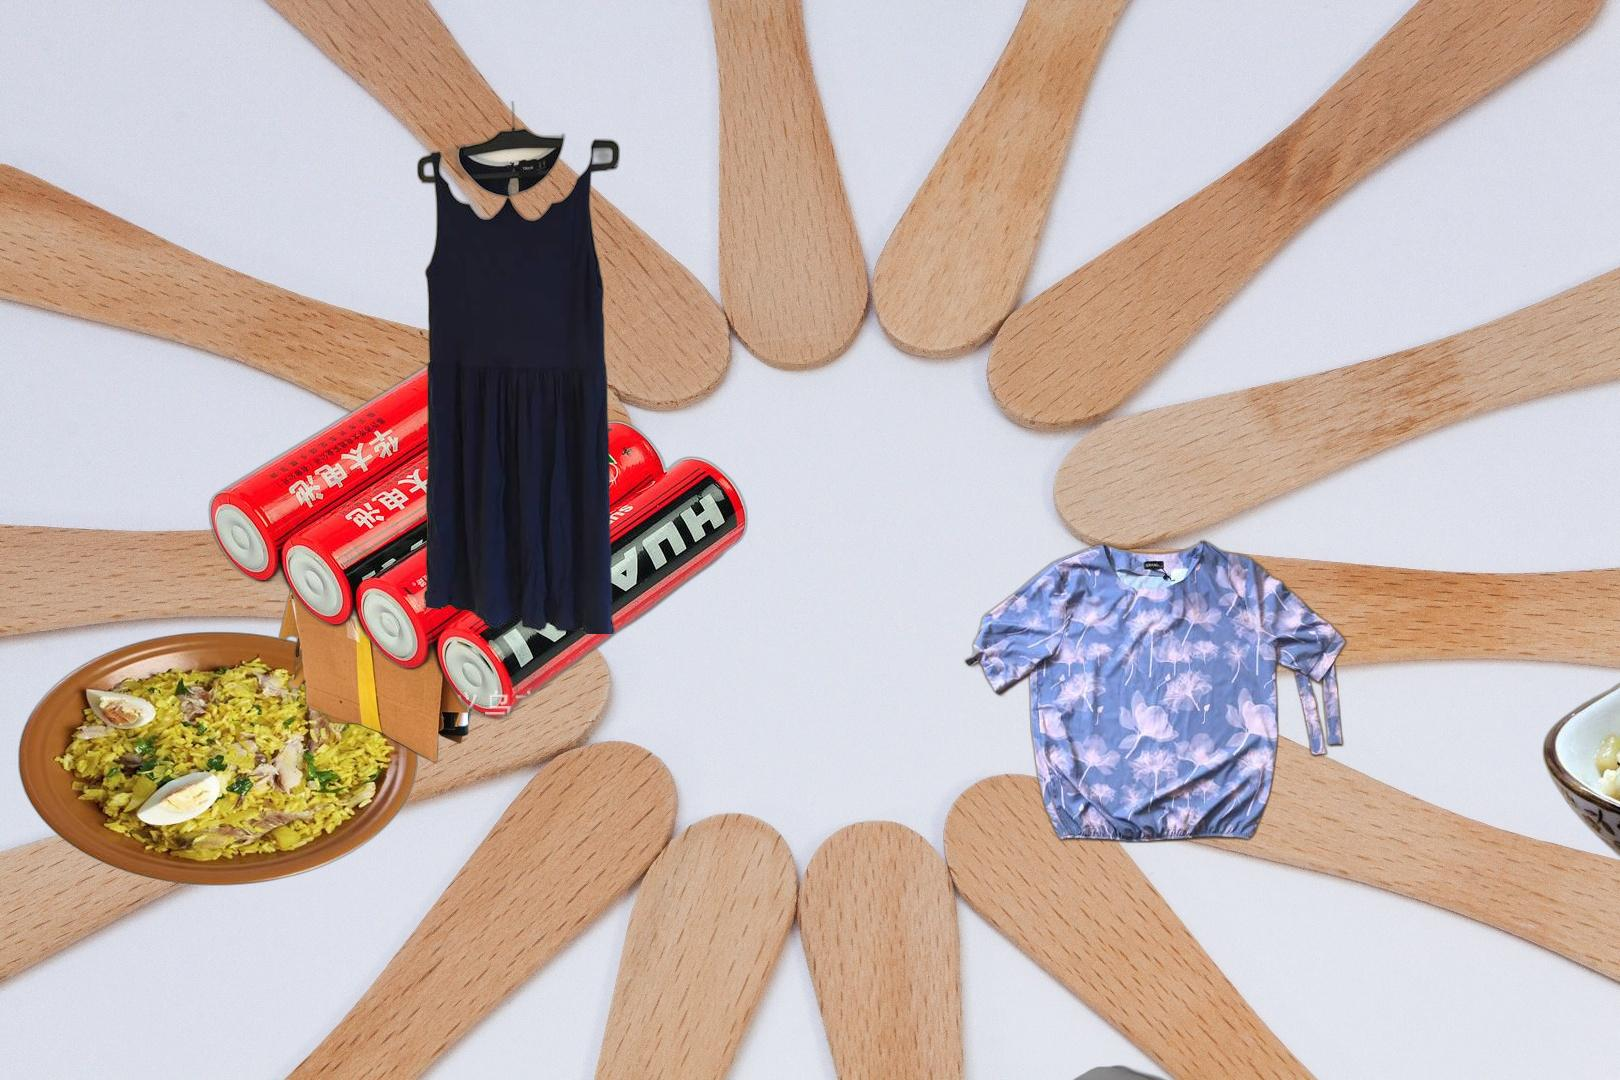battery: (202, 340, 755, 722)
biological: (14, 629, 421, 888), (1539, 620, 1620, 918)
clothes: (963, 536, 1352, 847), (413, 101, 623, 634)
paper: (902, 1062, 1303, 1080)
plastic-bottles: (548, 1050, 944, 1080)
trashbox-cardboard: (275, 529, 513, 765)
